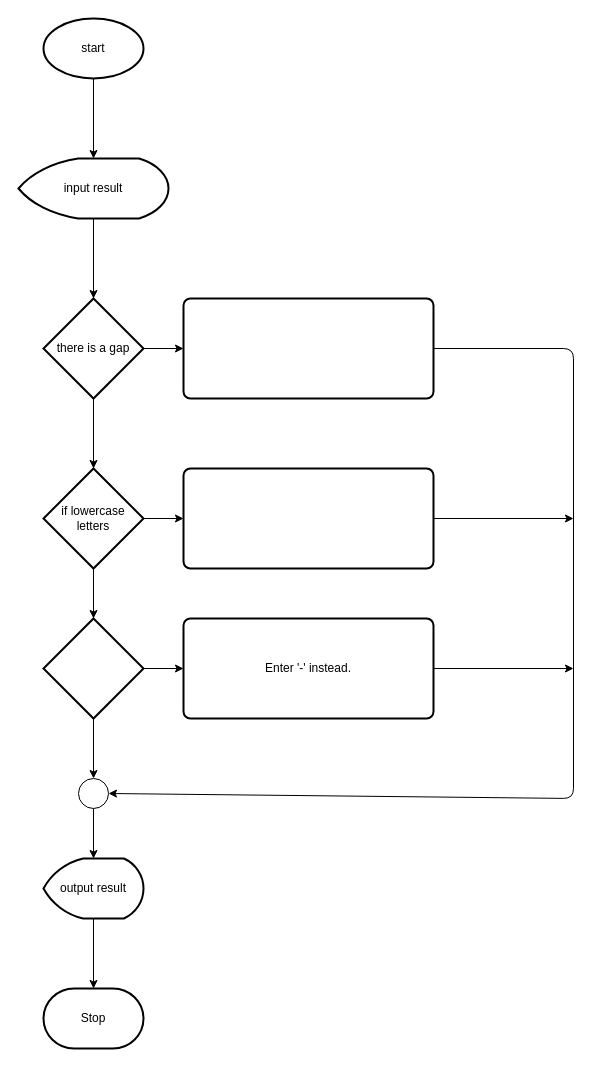
The diagram is 599 pixels wide and 1066 high, and some of its shapes have lost their labels. The shapes that lost their labels are listed below. From the top down, each one's box as (x1, y1, x2, y2) in pixels, then its label:
(182, 297, 434, 399): make the text stick together
(182, 467, 434, 569): Let it be in uppercase letters.
(42, 617, 144, 719): if there is a blank space
